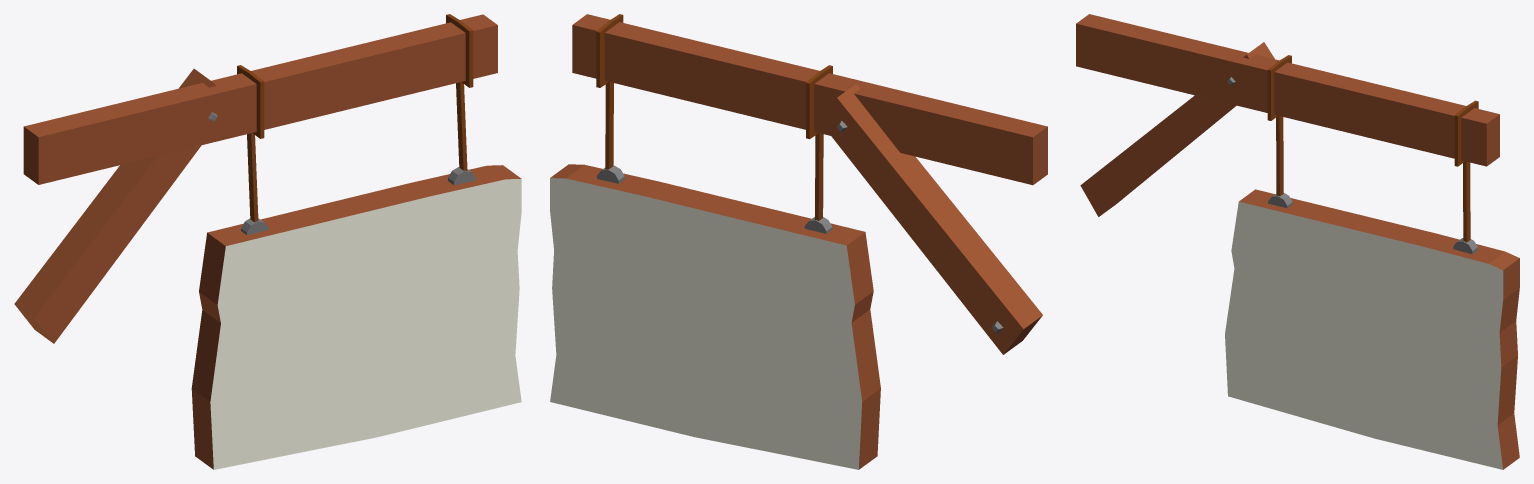
Rendered from Prop_Fantasy_Sign_Hanging_Wooden_Painted_01.FBX.
3 views of the same model, side by side, from view 1: azimuth 30°, elevation 25°; view 2: azimuth 150°, elevation 25°; view 3: azimuth 330°, elevation 25° (orthographic). The views are drawn at different scales.
Parts seen in each view (by area): view 1: Prop_Fantasy_Sign_Hanging_Wooden_Painted_01; view 2: Prop_Fantasy_Sign_Hanging_Wooden_Painted_01; view 3: Prop_Fantasy_Sign_Hanging_Wooden_Painted_01.
Boxes of the visible parts, <box> form: Prop_Fantasy_Sign_Hanging_Wooden_Painted_01: <box>14,14,521,469</box>; Prop_Fantasy_Sign_Hanging_Wooden_Painted_01: <box>550,14,1047,469</box>; Prop_Fantasy_Sign_Hanging_Wooden_Painted_01: <box>1076,14,1519,469</box>.
Size of the model in its own units: 1132 by 868 by 136.
